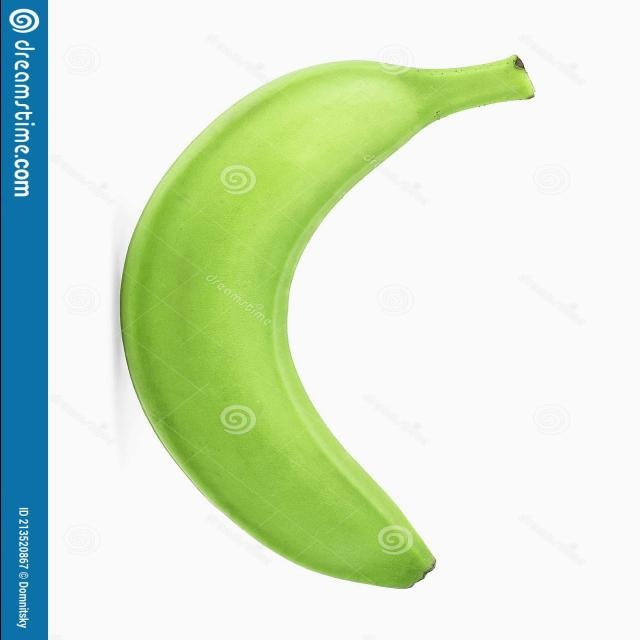agrume: (111, 50, 541, 593)
